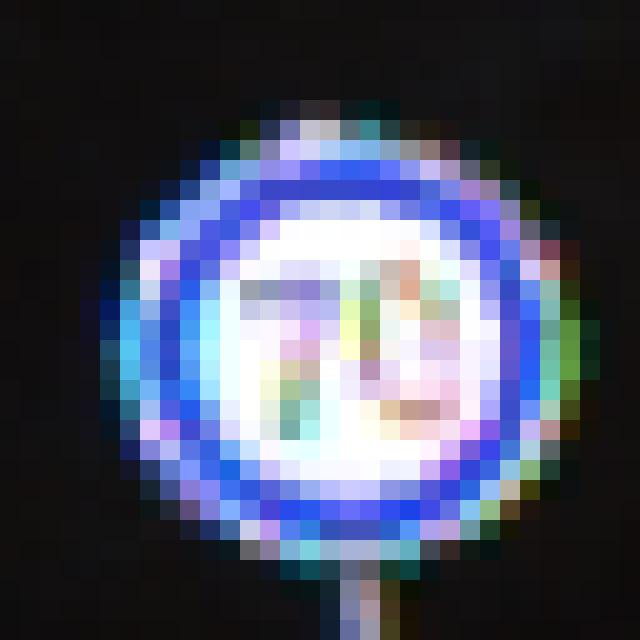SPEED LIMIT 70: (116, 109, 586, 579)
